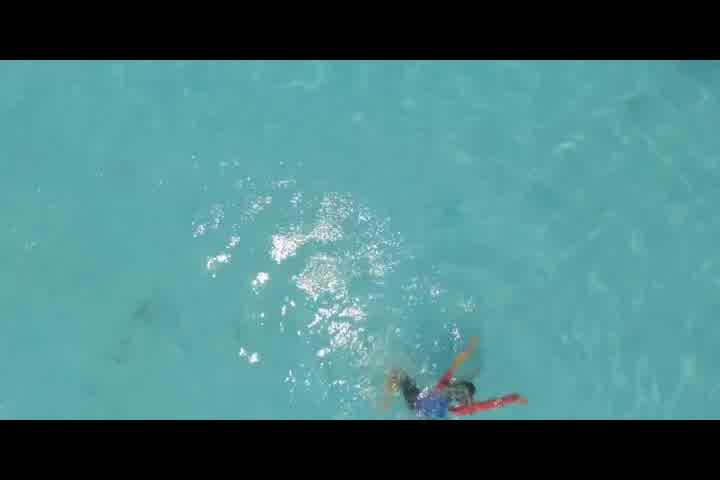swimmer: (384, 342, 524, 420)
